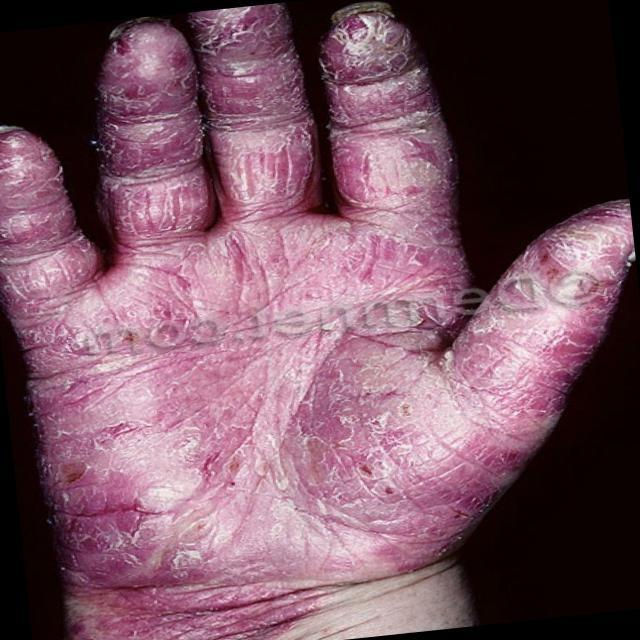Eczema: (0, 9, 614, 592)
